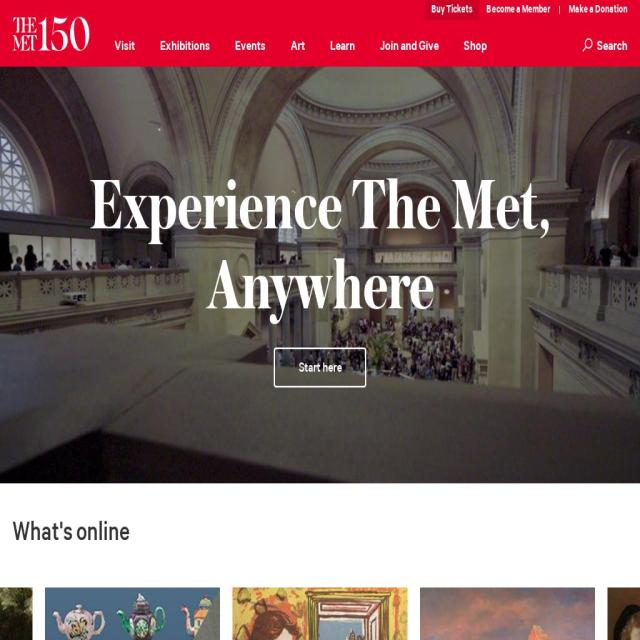button: (232, 586, 408, 640), (420, 586, 595, 640), (44, 586, 219, 640), (274, 348, 366, 388), (607, 586, 640, 640), (0, 586, 33, 640), (480, 0, 558, 21), (380, 35, 439, 60), (160, 35, 210, 60), (424, 0, 480, 21), (582, 35, 628, 58), (235, 35, 266, 60), (330, 35, 355, 60), (464, 35, 487, 60), (114, 35, 135, 60), (291, 35, 305, 60)
heading: (12, 162, 628, 322), (12, 517, 628, 549)
image: (0, 67, 640, 483), (232, 586, 408, 640), (420, 586, 595, 640), (44, 586, 219, 640), (12, 17, 90, 51), (607, 586, 640, 640), (0, 586, 33, 640), (582, 34, 592, 56)
link: (568, 4, 628, 71)
text: (380, 37, 439, 55), (160, 37, 210, 55), (597, 35, 627, 58), (235, 37, 266, 55), (330, 37, 355, 55), (464, 37, 487, 55), (114, 37, 135, 55), (291, 37, 305, 55), (558, 2, 562, 16)
